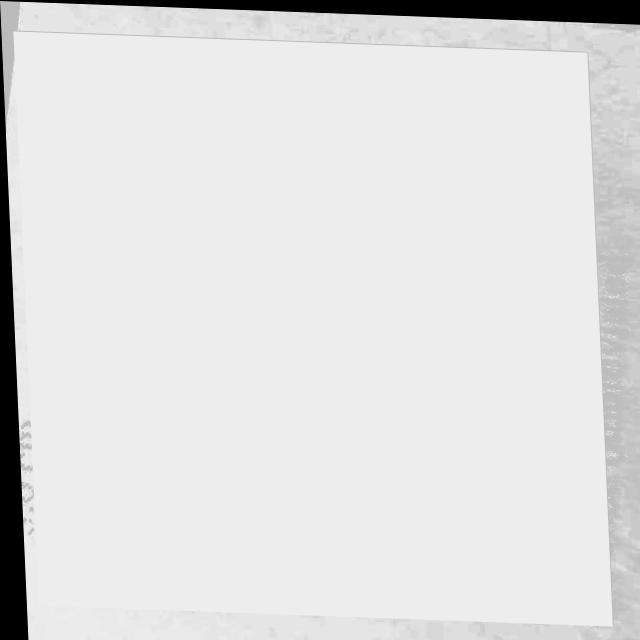qr_code: (14, 30, 608, 621)
